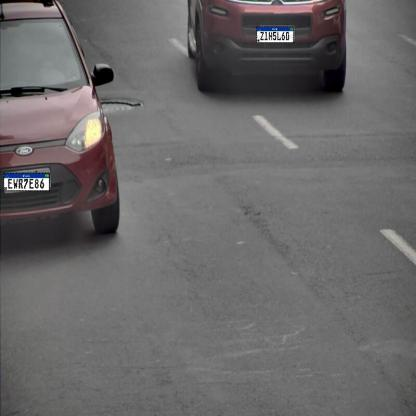PlacaM: (3, 173, 50, 191), (256, 26, 294, 43)
